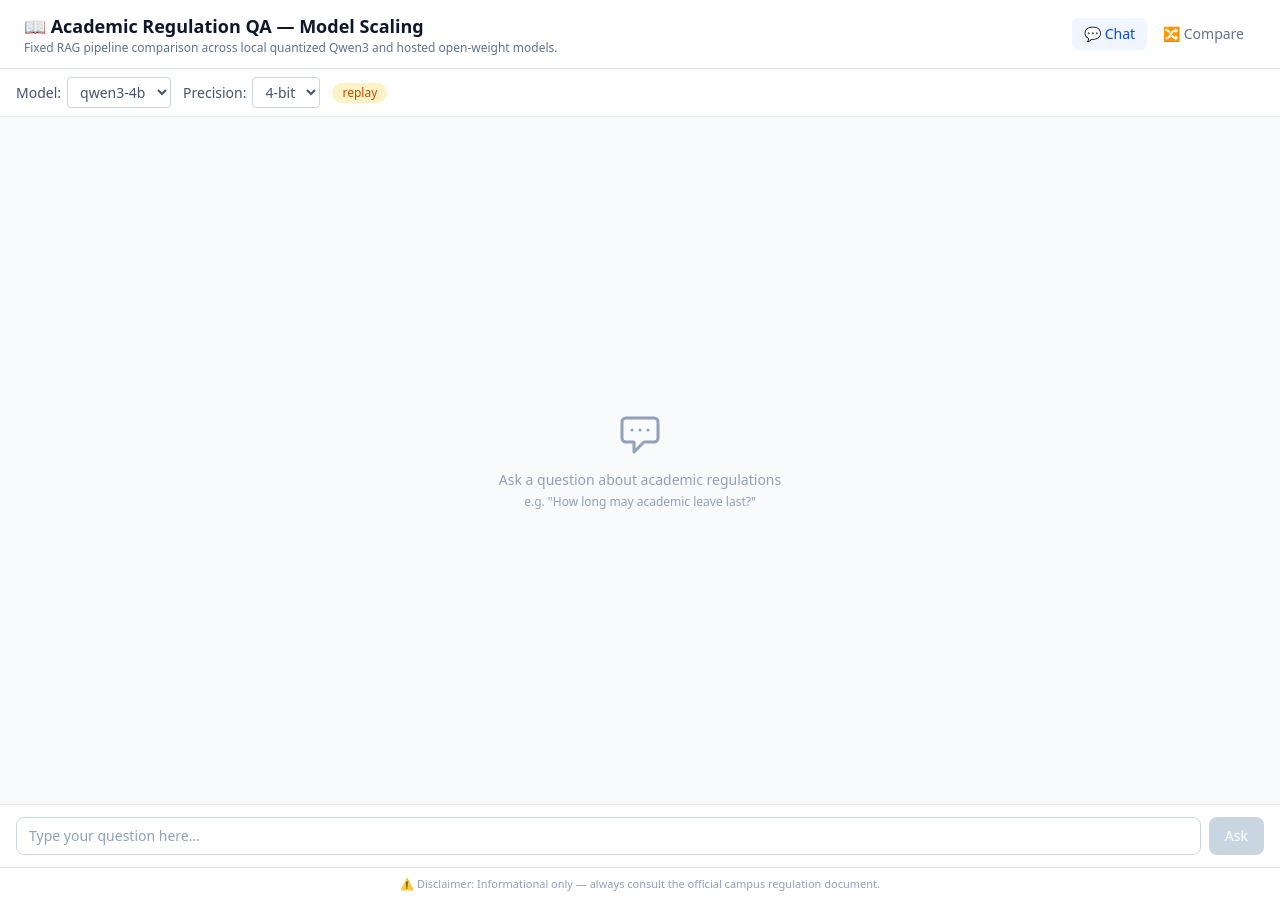
Test: App shell › switches back to chat page when Chat tab is clicked
What coordinates should you click on to do the following:
click the button "🔀 Compare"
I would click on:
 (1204, 34)
Its box is top-left (1151, 18), bottom-right (1256, 50).
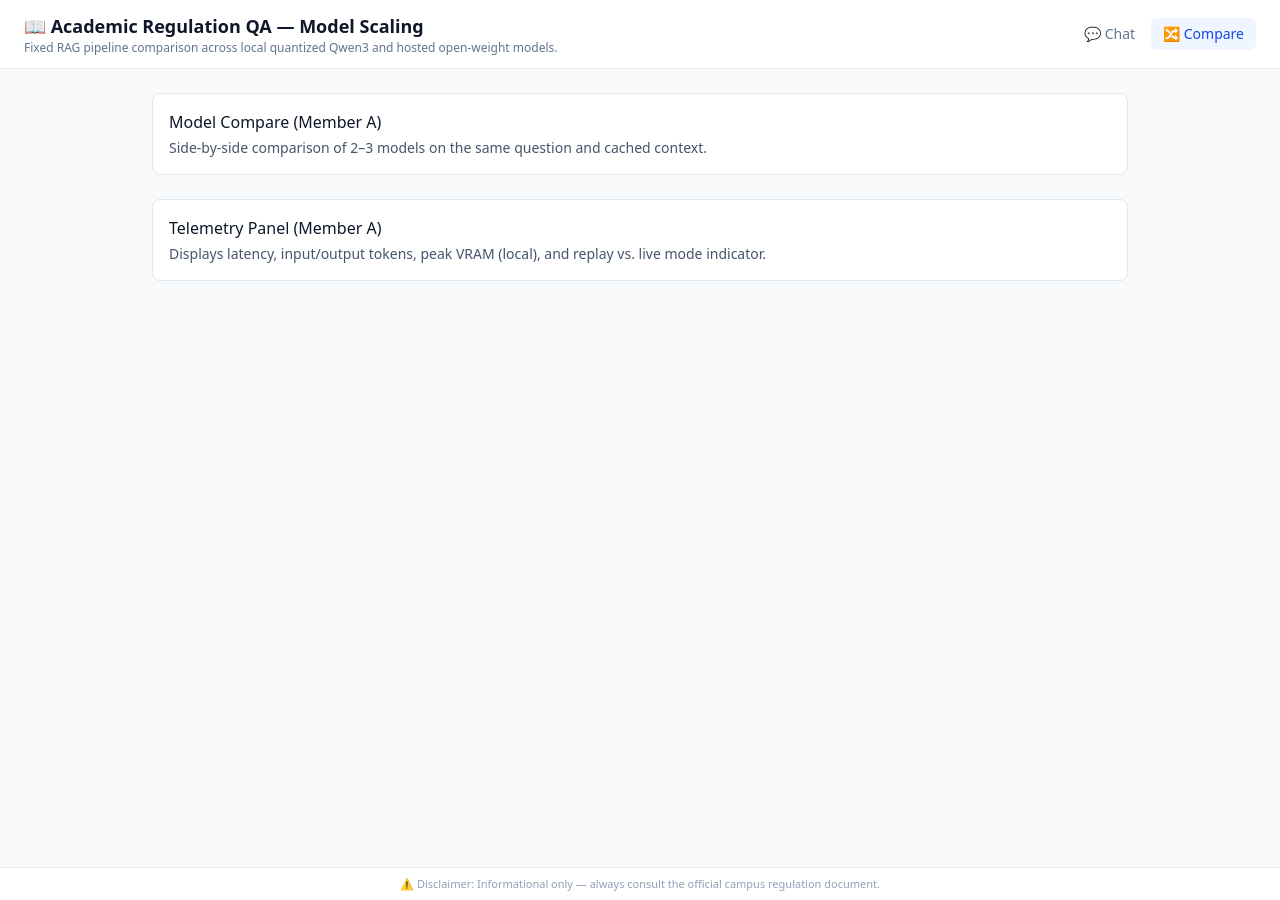
What coordinates should you click on to do the following:
click the button "💬 Chat"
I would click on:
 (1110, 34)
Its box is top-left (1072, 18), bottom-right (1147, 50).
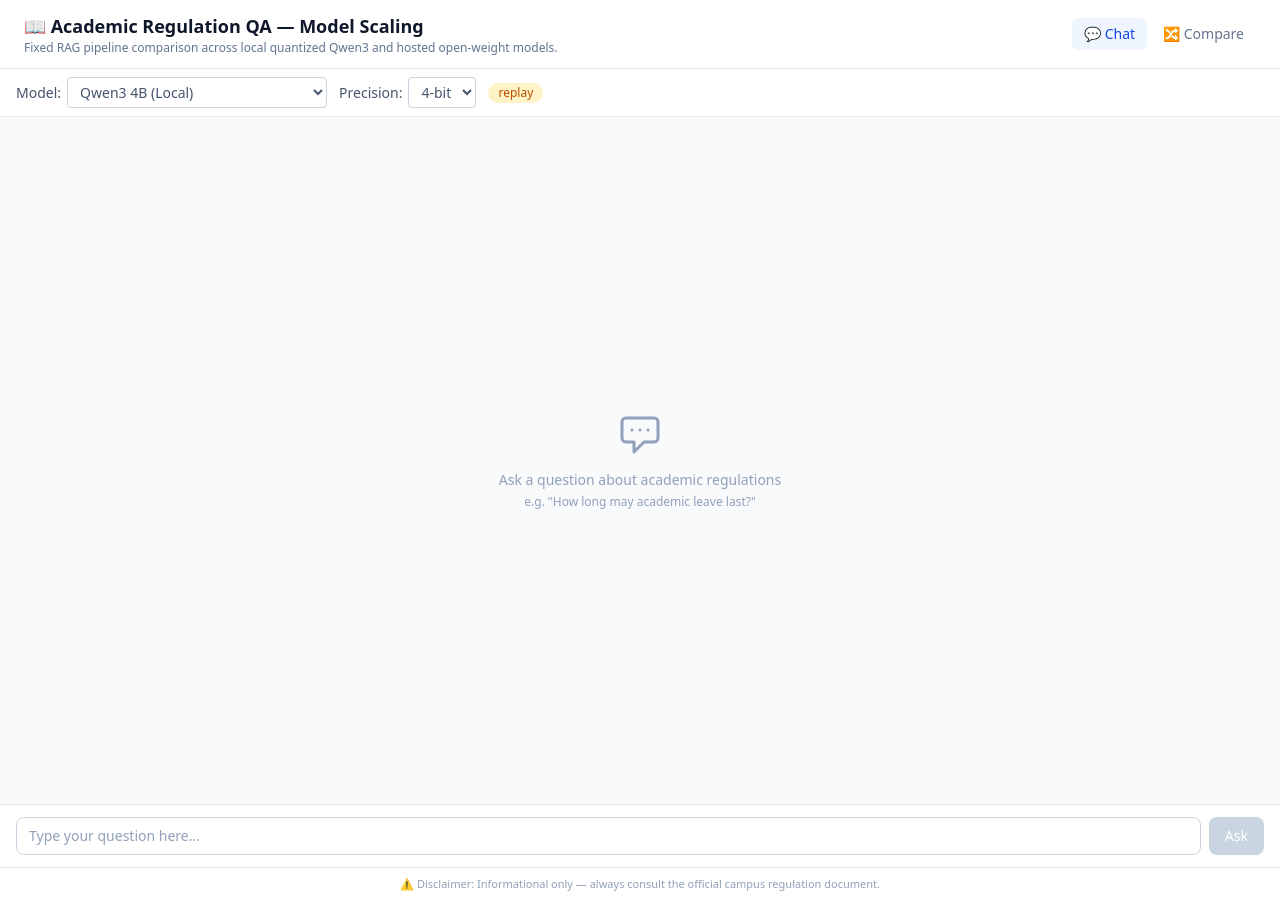
Now the button "Ask" is shown, box top-left (1209, 816), bottom-right (1264, 854)
